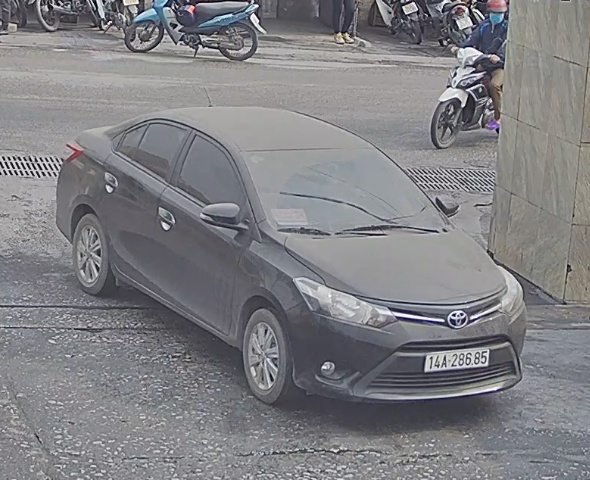vehicle plate: (421, 346, 491, 375)
